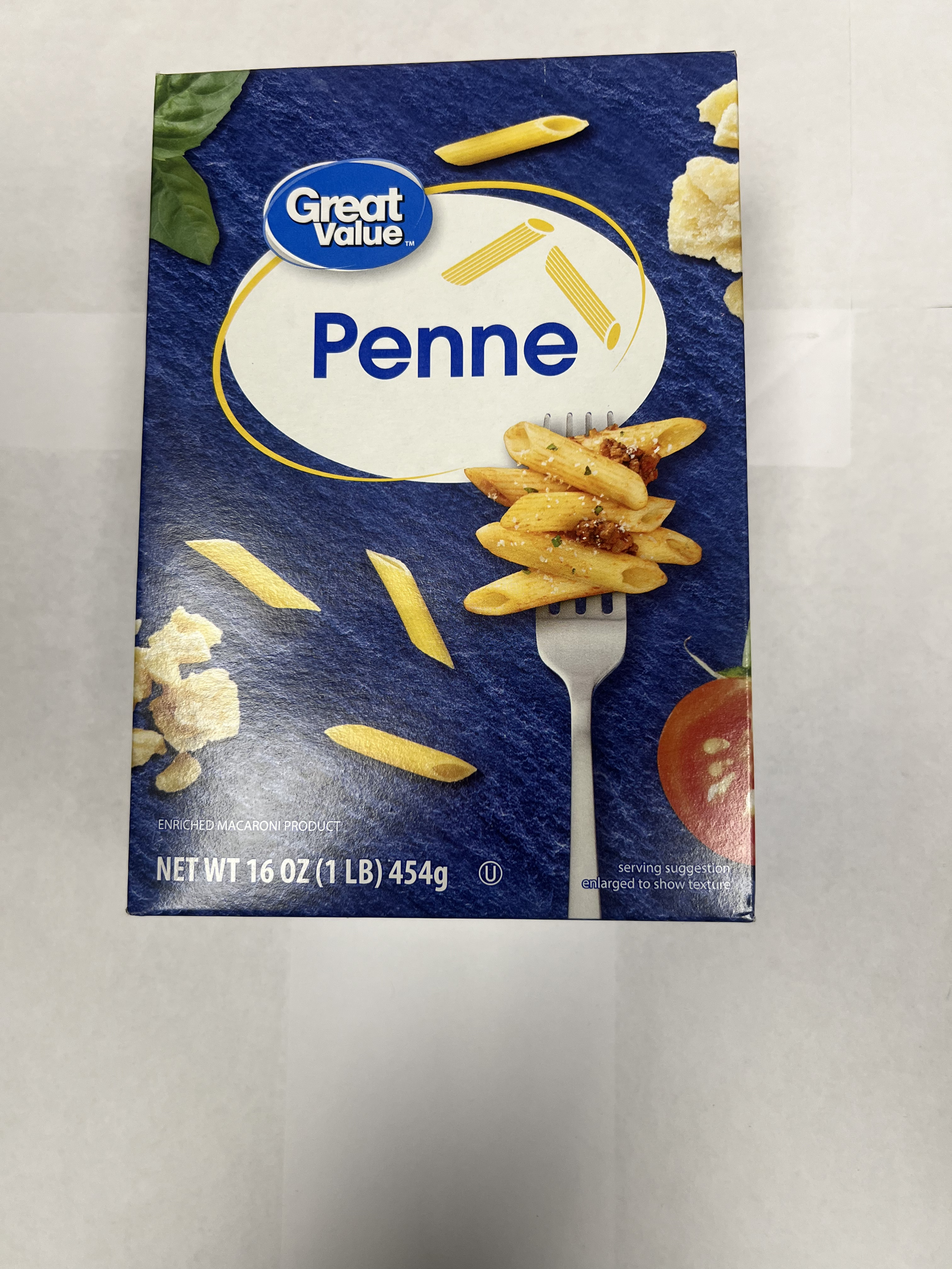packaged: (120, 43, 764, 931)
